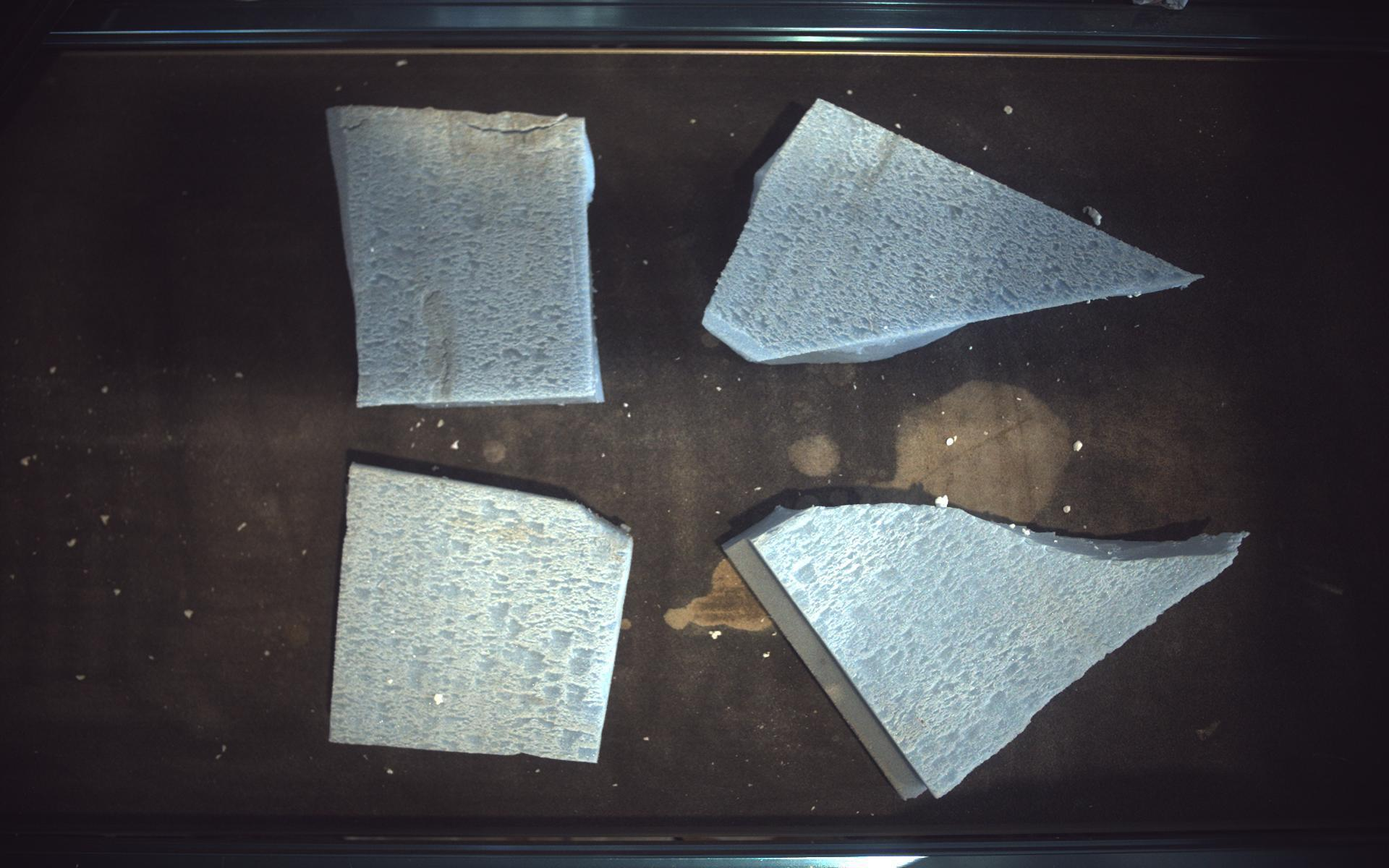foam: (726, 503, 1250, 800), (704, 98, 1202, 364), (330, 464, 633, 764), (328, 104, 604, 407)
